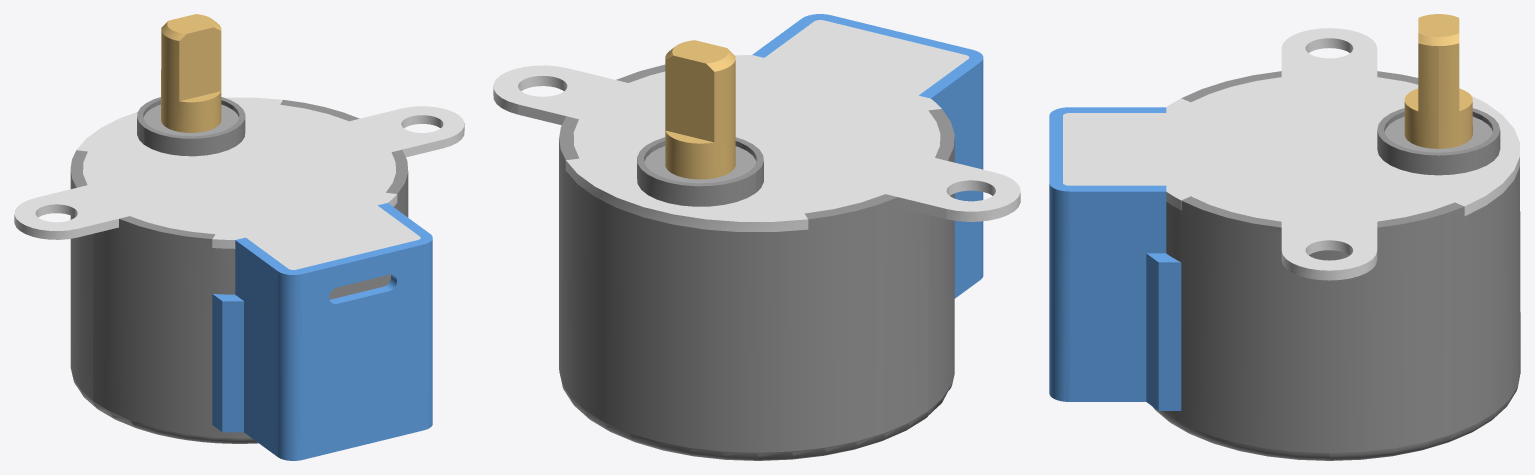
Rendered from ada-858.glb.
3 renders of one model, left to right at view 1: azimuth 30°, elevation 25°; view 2: azimuth 150°, elevation 25°; view 3: azimuth 270°, elevation 25°, orthographic. The views are drawn at different scales.
Visible parts, largest first — view 1: 0.9166666666666666_0.9166666666666666_0.9166666666666666_0.8, 0.16666666666666666_0.4166666666666667_1_0, 0.3333333333333333_0.3333333333333333_0.3333333333333333_0, 0.9166666666666666_0.5833333333333334_0.16666666666666666_0, 0.4166666666666667_0.4166666666666667_0.4166666666666667_0; view 2: 0.3333333333333333_0.3333333333333333_0.3333333333333333_0, 0.9166666666666666_0.9166666666666666_0.9166666666666666_0.8, 0.9166666666666666_0.5833333333333334_0.16666666666666666_0, 0.16666666666666666_0.4166666666666667_1_0, 0.4166666666666667_0.4166666666666667_0.4166666666666667_0; view 3: 0.3333333333333333_0.3333333333333333_0.3333333333333333_0, 0.9166666666666666_0.9166666666666666_0.9166666666666666_0.8, 0.16666666666666666_0.4166666666666667_1_0, 0.9166666666666666_0.5833333333333334_0.16666666666666666_0, 0.4166666666666667_0.4166666666666667_0.4166666666666667_0.
Part boxes in pixels (x1,y1,x2,y2): 0.9166666666666666_0.9166666666666666_0.9166666666666666_0.8: [14, 97, 464, 269]; 0.16666666666666666_0.4166666666666667_1_0: [212, 203, 432, 460]; 0.3333333333333333_0.3333333333333333_0.3333333333333333_0: [70, 97, 408, 443]; 0.9166666666666666_0.5833333333333334_0.16666666666666666_0: [161, 14, 221, 132]; 0.4166666666666667_0.4166666666666667_0.4166666666666667_0: [143, 104, 238, 136]; 0.3333333333333333_0.3333333333333333_0.3333333333333333_0: [559, 64, 954, 460]; 0.9166666666666666_0.9166666666666666_0.9166666666666666_0.8: [493, 20, 1020, 231]; 0.9166666666666666_0.5833333333333334_0.16666666666666666_0: [665, 40, 735, 179]; 0.16666666666666666_0.4166666666666667_1_0: [752, 14, 983, 298]; 0.4166666666666667_0.4166666666666667_0.4166666666666667_0: [644, 146, 756, 183]; 0.3333333333333333_0.3333333333333333_0.3333333333333333_0: [1153, 71, 1520, 460]; 0.9166666666666666_0.9166666666666666_0.9166666666666666_0.8: [1063, 28, 1519, 280]; 0.16666666666666666_0.4166666666666667_1_0: [1049, 107, 1181, 410]; 0.9166666666666666_0.5833333333333334_0.16666666666666666_0: [1404, 14, 1472, 148]; 0.4166666666666667_0.4166666666666667_0.4166666666666667_0: [1385, 116, 1492, 152].
Bounding box in the file's own units: 4.2 × 2.9 × 3.45.
